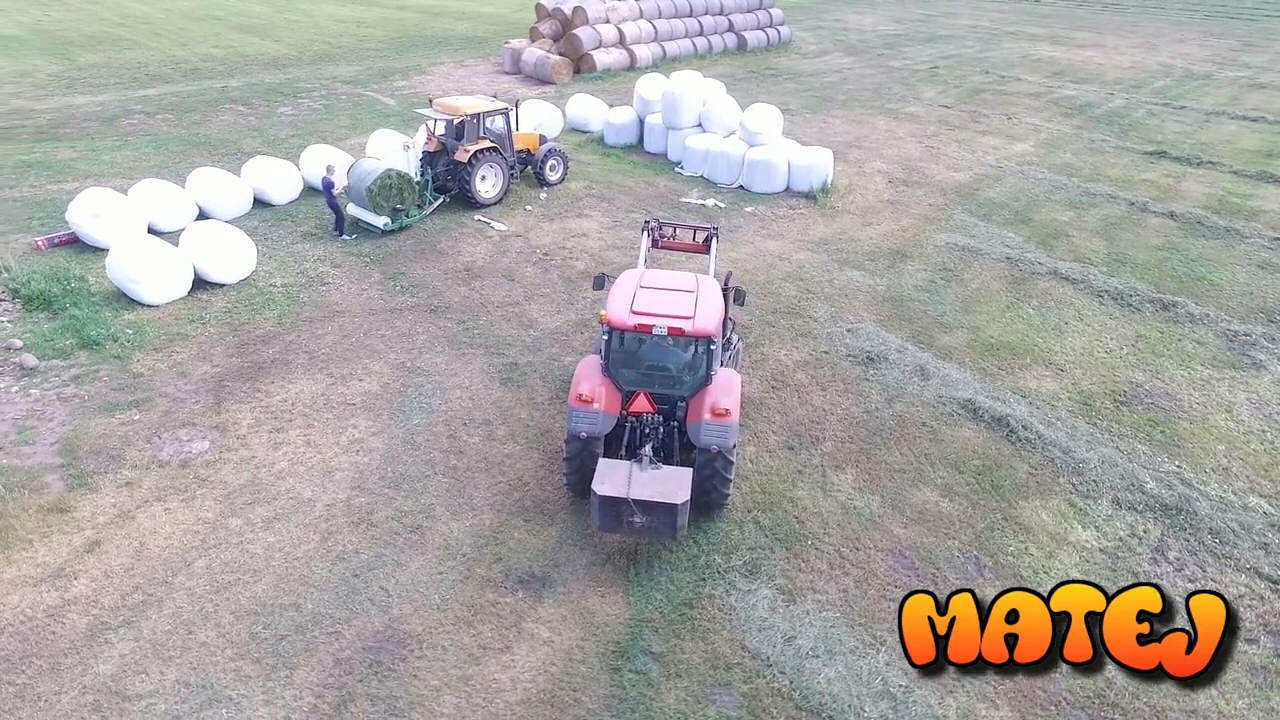insan: (321, 161, 349, 245)
traktor: (549, 214, 762, 540), (416, 83, 574, 212)
